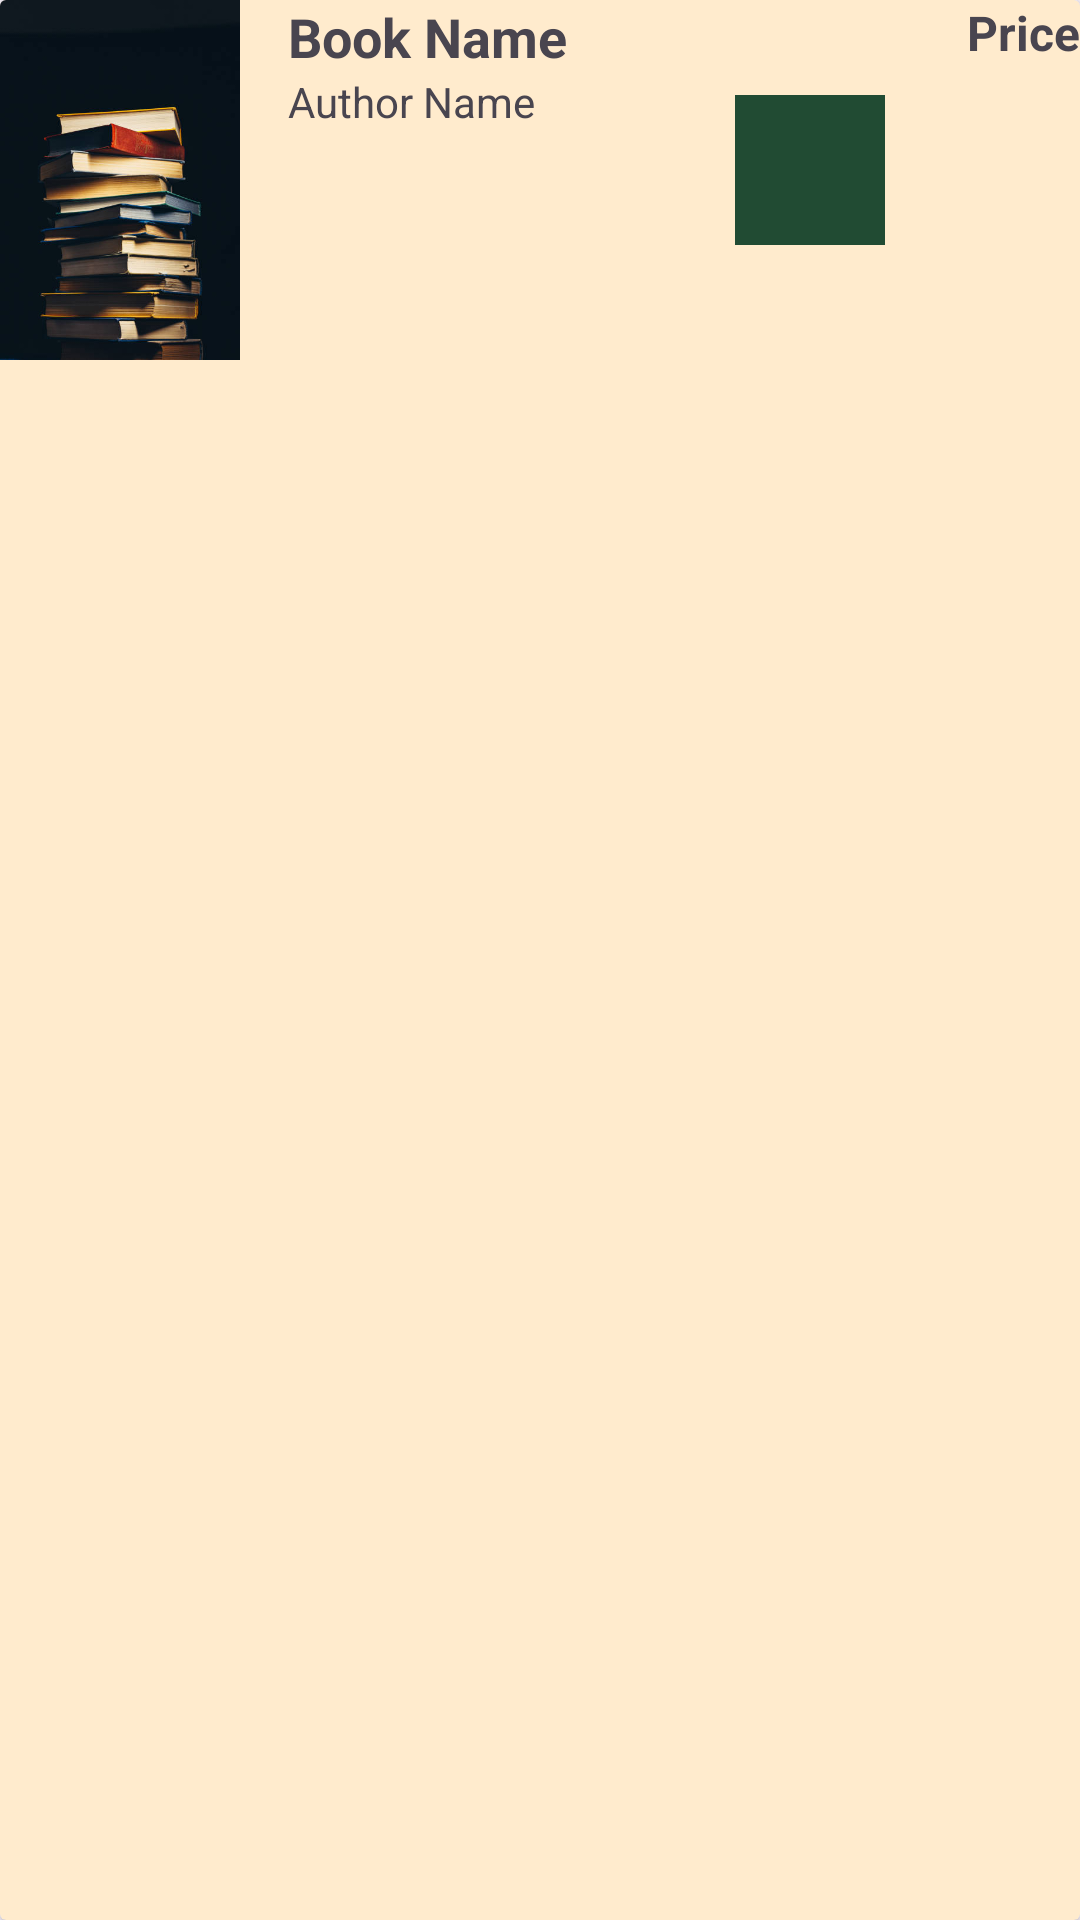

Screen size 1080*1920. Icon name, then its box in pixels as (x1, y1, x2, y2):
bookcover: (0, 0, 240, 360)
